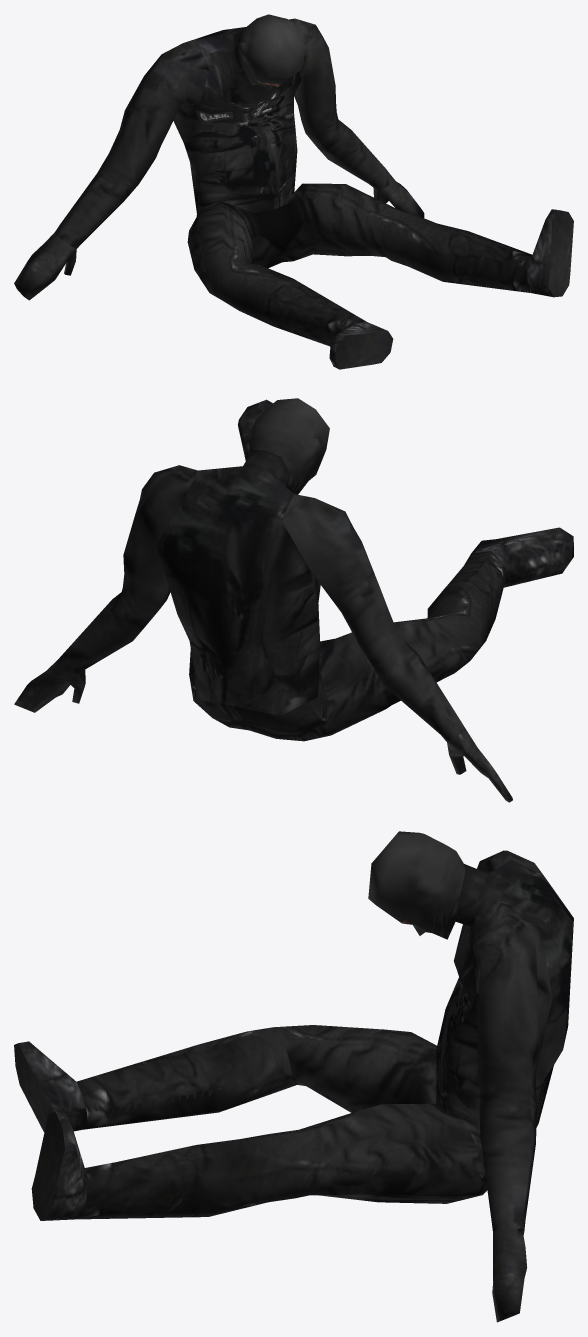
Rendered from character_21_3.fbx.
The picture shows the model from 3 angles, top to bottom: view 1: azimuth 30°, elevation 25°; view 2: azimuth 150°, elevation 25°; view 3: azimuth 270°, elevation 25°; orthographic projection. The views are drawn at different scales.
Parts seen in each view (by area): view 1: Character_21_Police; view 2: Character_21_Police; view 3: Character_21_Police.
Boxes of the visible parts, box(x1,y1,x2,y2) form: Character_21_Police: box(14, 14, 573, 369); Character_21_Police: box(14, 398, 573, 802); Character_21_Police: box(14, 831, 573, 1322).
Size of the model in its own units: 333 by 216 by 295.
